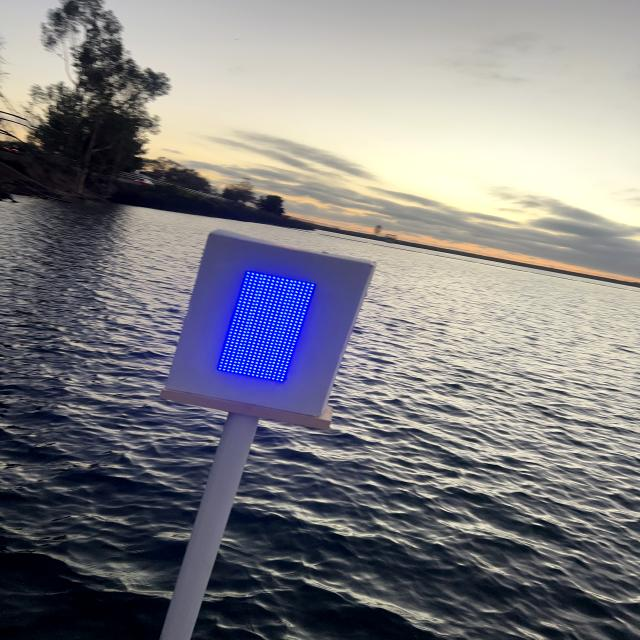led: (204, 257, 319, 402)
